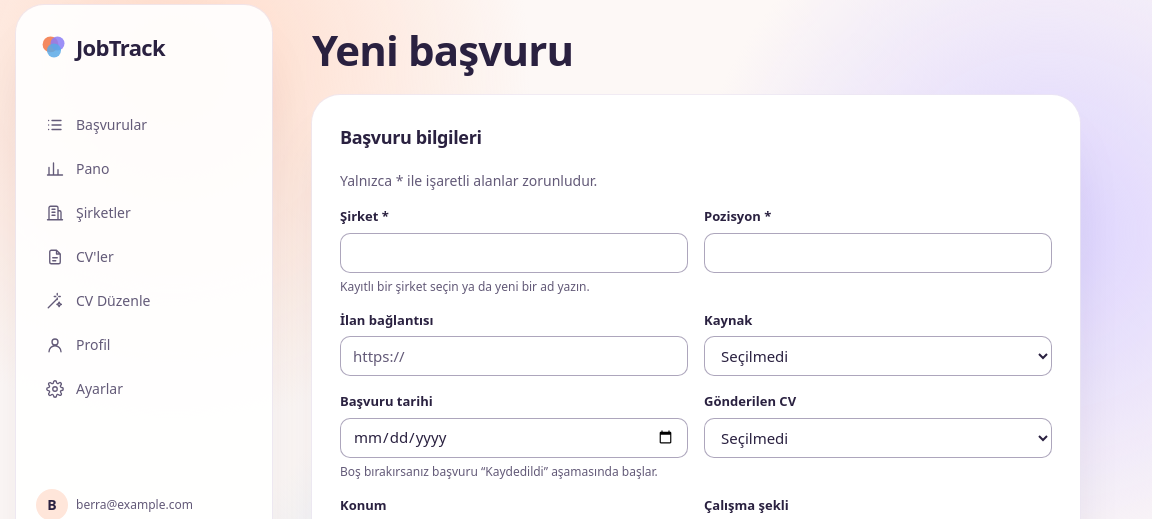
Test: yeni başvuru formu (FR-04, NFR-09) › kayıtlı şirket adı (büyük/küçük harf farkıyla) yazılırsa şirket ID'siyle gönderir
In the field labelled "Şirket *": (514, 252) [340,232,688,272], type "ACME"
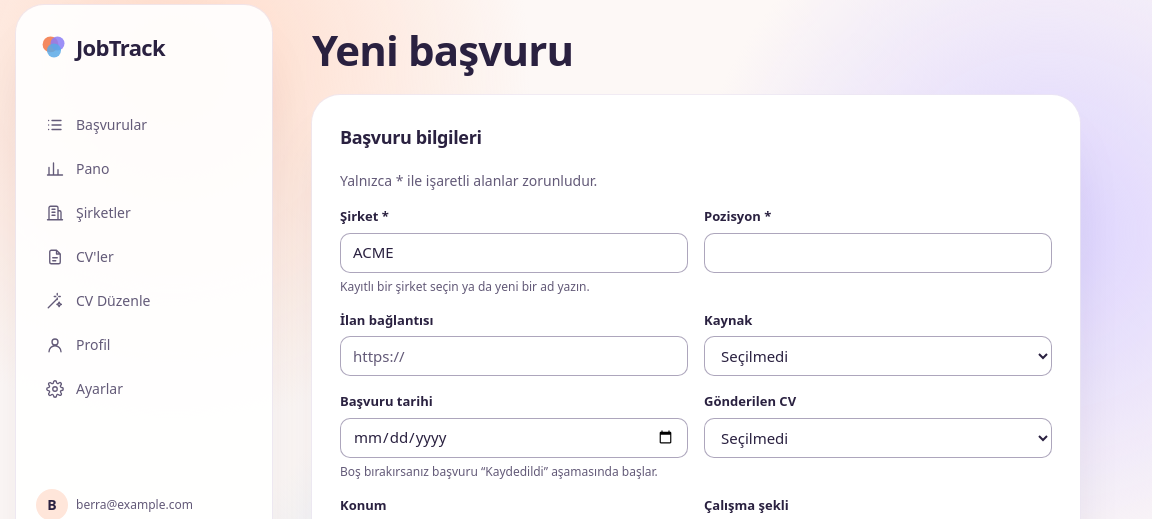
In the field labelled "Pozisyon *": (878, 252) [704,232,1052,272], type "Analist"
(page scrolled)
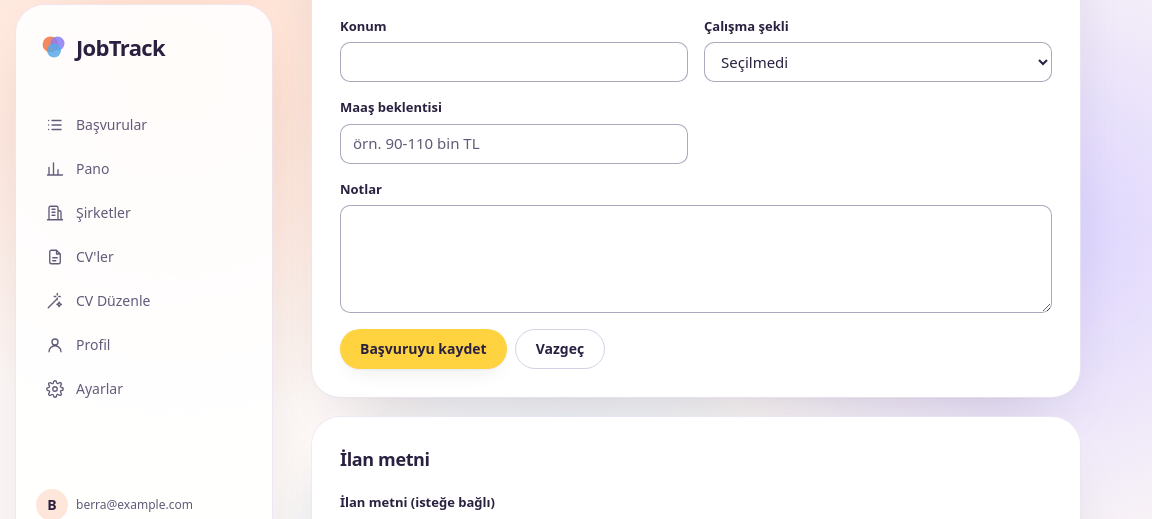
Click the button "Başvuruyu kaydet": (423, 349) [340,329,507,369]
(page scrolled)
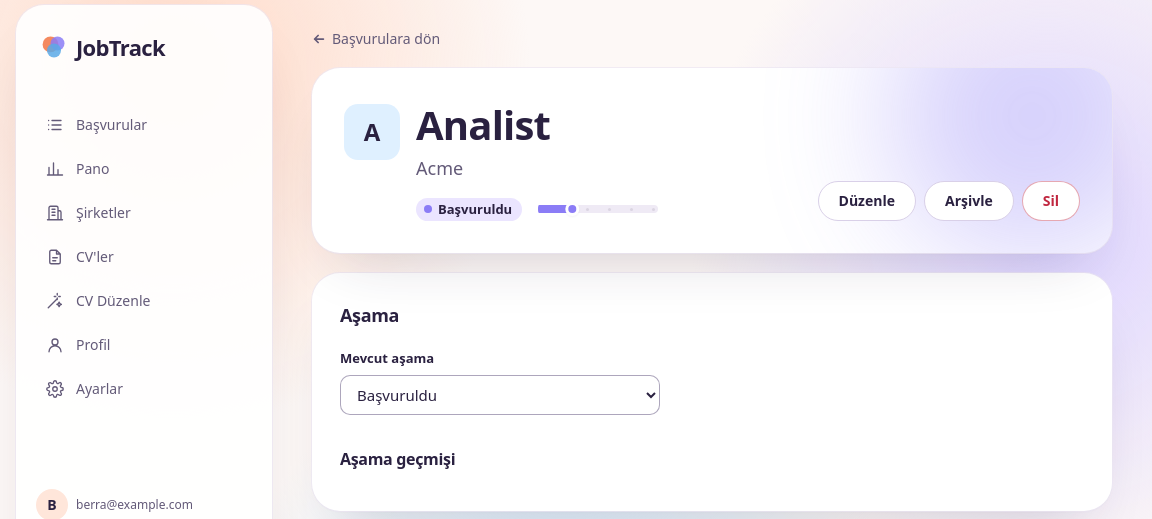
Check: the heading "Analist" is shown, box [416,96,550,152]
